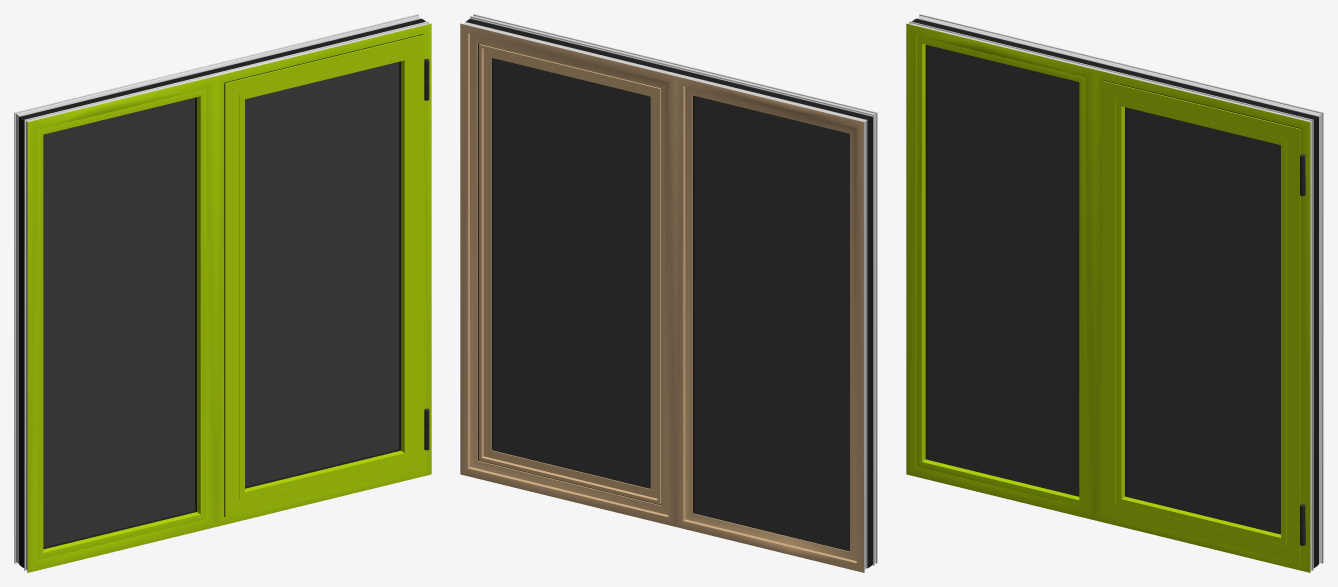
Rendered from 85_1_door.fbx.
3 renders of one model, left to right at view 1: azimuth 30°, elevation 25°; view 2: azimuth 150°, elevation 25°; view 3: azimuth 330°, elevation 25°, orthographic.
Parts seen in each view (by area): view 1: SM_extra_85_004, SM_Door_Frame_85_R_014, SM_Window_Frame_1_door_85_001, SM_Door_Frame_85_R_015, SM_Window_Frame_1_door_85_002, SM_Door_Frame_85_R_018, SM_extra_85_009; view 2: SM_extra_85_004, SM_Door_Frame_85_R_014, SM_Window_Frame_1_door_85_001, SM_Door_Frame_85_R_015, SM_Window_Frame_1_door_85_002, SM_Door_Frame_85_R_018, SM_extra_85_009, SM_Window_Frame_1_door_85_006; view 3: SM_extra_85_004, SM_Door_Frame_85_R_014, SM_Window_Frame_1_door_85_001, SM_Door_Frame_85_R_015, SM_Window_Frame_1_door_85_002, SM_Door_Frame_85_R_018, SM_extra_85_009.
Boxes of the visible parts, x1=… form: SM_extra_85_004: x1=43, y1=97, x2=195, y2=547; SM_Door_Frame_85_R_014: x1=245, y1=62, x2=399, y2=486; SM_Window_Frame_1_door_85_001: x1=14, y1=14, x2=431, y2=572; SM_Door_Frame_85_R_015: x1=225, y1=34, x2=424, y2=517; SM_Window_Frame_1_door_85_002: x1=19, y1=19, x2=425, y2=567; SM_Door_Frame_85_R_018: x1=224, y1=34, x2=423, y2=516; SM_extra_85_009: x1=43, y1=97, x2=196, y2=549; SM_extra_85_004: x1=695, y1=96, x2=849, y2=549; SM_Door_Frame_85_R_014: x1=493, y1=58, x2=650, y2=486; SM_Window_Frame_1_door_85_001: x1=460, y1=14, x2=877, y2=572; SM_Door_Frame_85_R_015: x1=479, y1=43, x2=661, y2=504; SM_Window_Frame_1_door_85_002: x1=466, y1=19, x2=872, y2=567; SM_Door_Frame_85_R_018: x1=491, y1=58, x2=650, y2=488; SM_extra_85_009: x1=693, y1=95, x2=849, y2=551; SM_Window_Frame_1_door_85_006: x1=478, y1=43, x2=661, y2=505; SM_extra_85_004: x1=927, y1=45, x2=1079, y2=494; SM_Door_Frame_85_R_014: x1=1126, y1=107, x2=1280, y2=532; SM_Window_Frame_1_door_85_001: x1=906, y1=14, x2=1323, y2=572; SM_Door_Frame_85_R_015: x1=1101, y1=80, x2=1301, y2=563; SM_Window_Frame_1_door_85_002: x1=912, y1=19, x2=1318, y2=567; SM_Door_Frame_85_R_018: x1=1102, y1=80, x2=1301, y2=562; SM_extra_85_009: x1=925, y1=45, x2=1079, y2=496.
Bounding box in the file's own units: 150 × 160 × 10.26.
